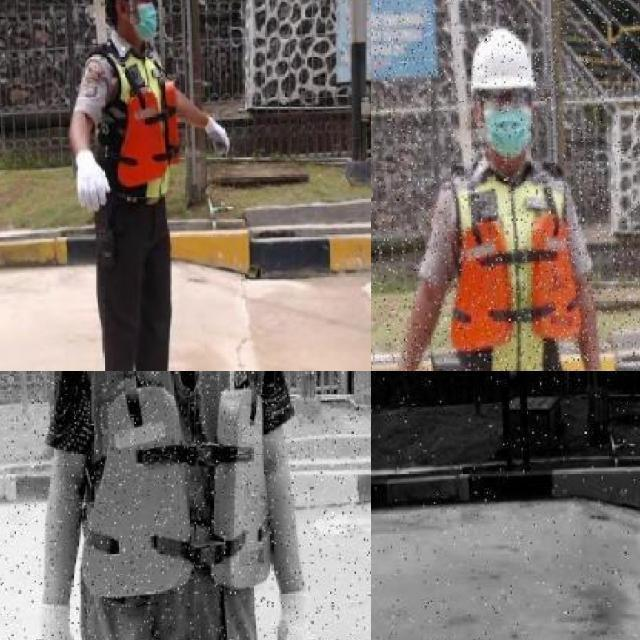apron: (72, 148, 112, 219), (270, 586, 317, 640), (28, 599, 83, 640), (201, 112, 232, 165)
